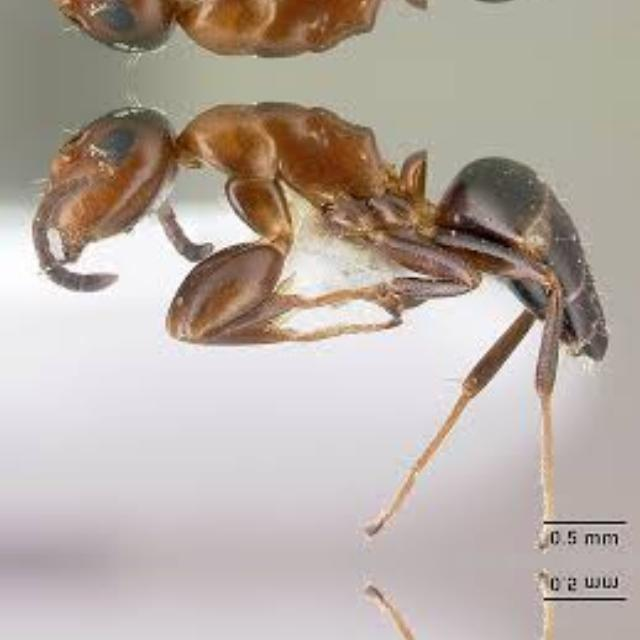Colobopsis: (36, 81, 640, 436), (36, 0, 638, 76)
